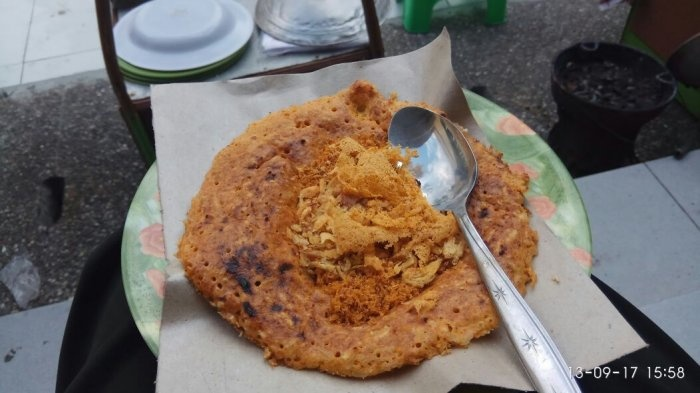kerak_telor: (189, 85, 536, 366)
